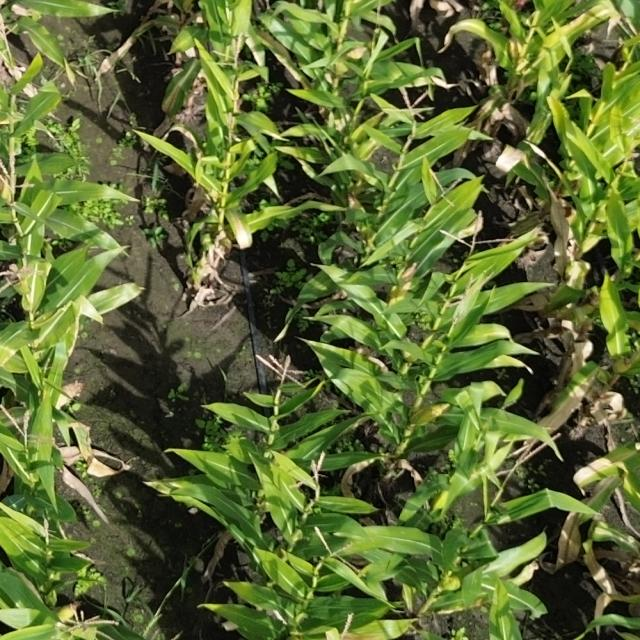gray-leaf-spot: (61, 218, 117, 246)
northern-leaf-blight: (160, 74, 193, 111), (226, 209, 256, 249), (592, 452, 639, 473), (342, 623, 392, 640), (478, 322, 518, 342)
southern-leaf-blight: (290, 410, 327, 436), (64, 0, 105, 20)
